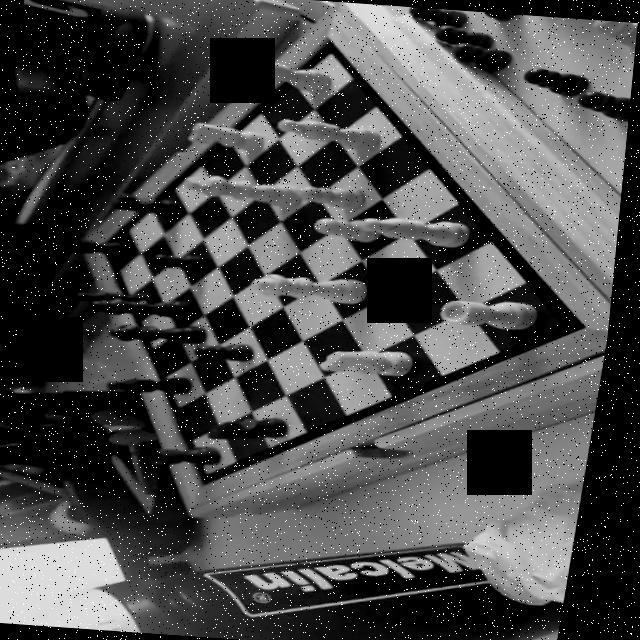chess-table-corners: (309, 30, 340, 50), (197, 474, 225, 489), (96, 237, 118, 256)
